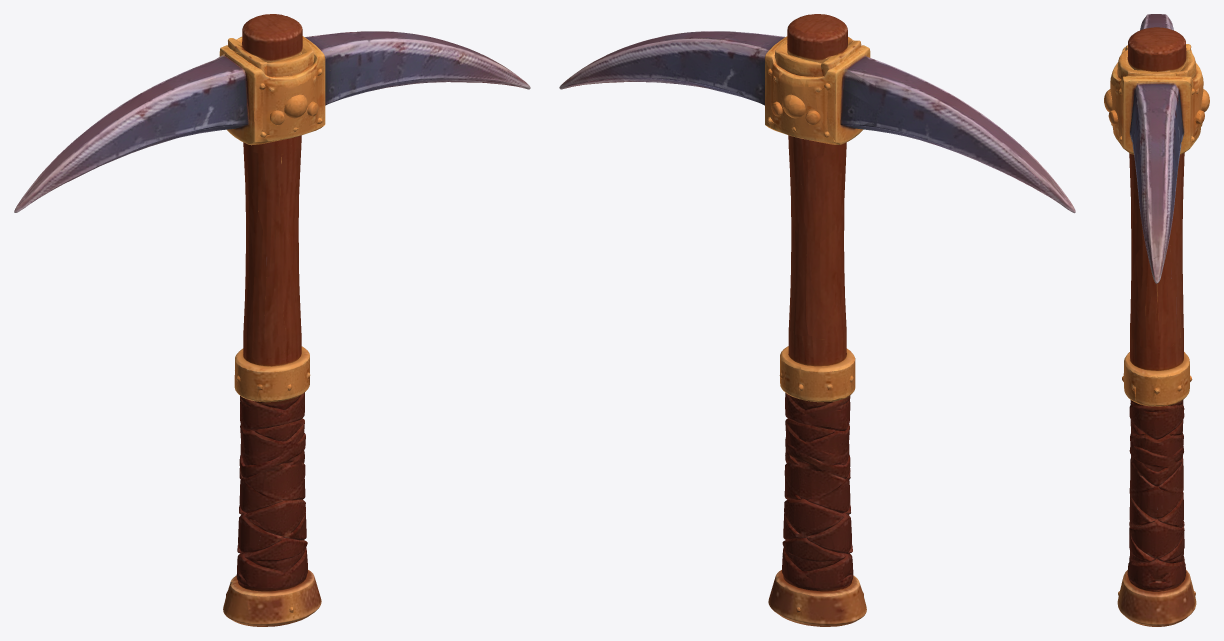
Rendered from pickaxe.glb.
The picture shows the model from 3 angles, left to right: view 1: azimuth 30°, elevation 25°; view 2: azimuth 150°, elevation 25°; view 3: azimuth 270°, elevation 25°; orthographic projection. The views are drawn at different scales.
Parts seen in each view (by area): view 1: Mesh_0; view 2: Mesh_0; view 3: Mesh_0.
Boxes of the visible parts, x1,y1,x2,y2 form: Mesh_0: [14, 14, 530, 626]; Mesh_0: [559, 14, 1075, 626]; Mesh_0: [1104, 14, 1209, 626].
Bounding box in the file's own units: 1.72 × 1.9 × 0.315.
1 material, 1 textured.
